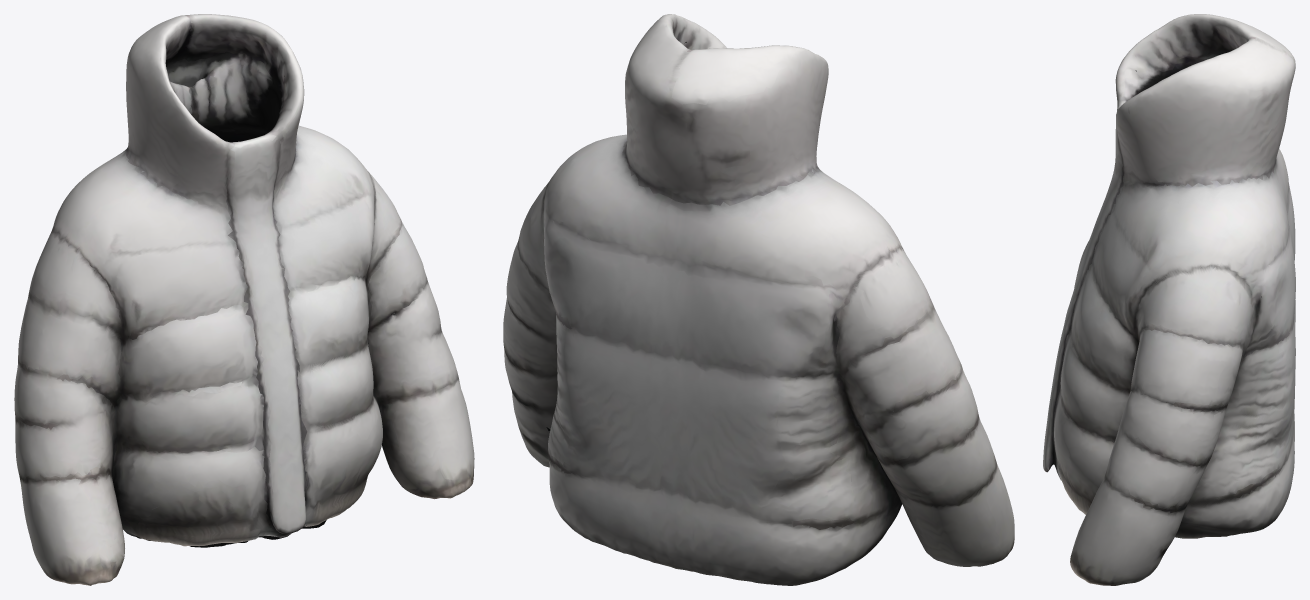
The model's file is puffer.glb.
3 views of the same model, side by side, from view 1: azimuth 30°, elevation 25°; view 2: azimuth 150°, elevation 25°; view 3: azimuth 270°, elevation 25° (orthographic). The views are drawn at different scales.
Parts seen in each view (by area): view 1: geometry_0; view 2: geometry_0; view 3: geometry_0.
Part boxes in pixels (box(x1,y1,x2,y2)): geometry_0: box(14, 14, 474, 585); geometry_0: box(503, 14, 1014, 585); geometry_0: box(1043, 14, 1295, 585).
Size of the model in its own units: 0.7828 by 0.8 by 0.4035.
1 material, 1 textured.
